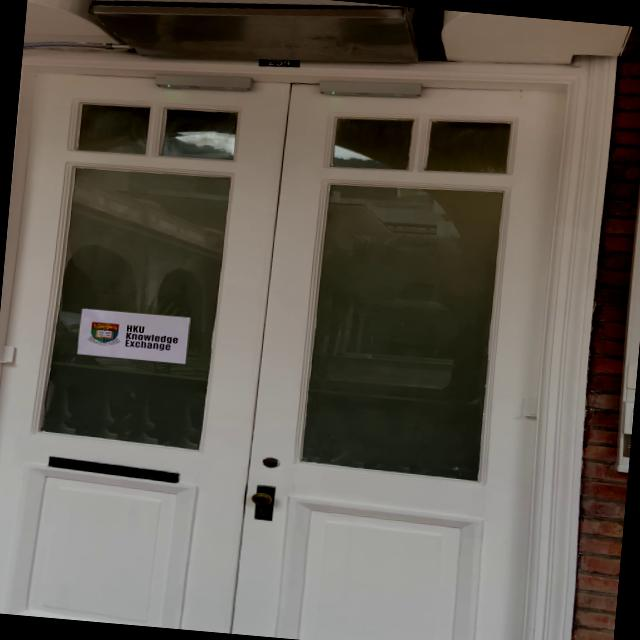room254: (256, 54, 302, 72)
